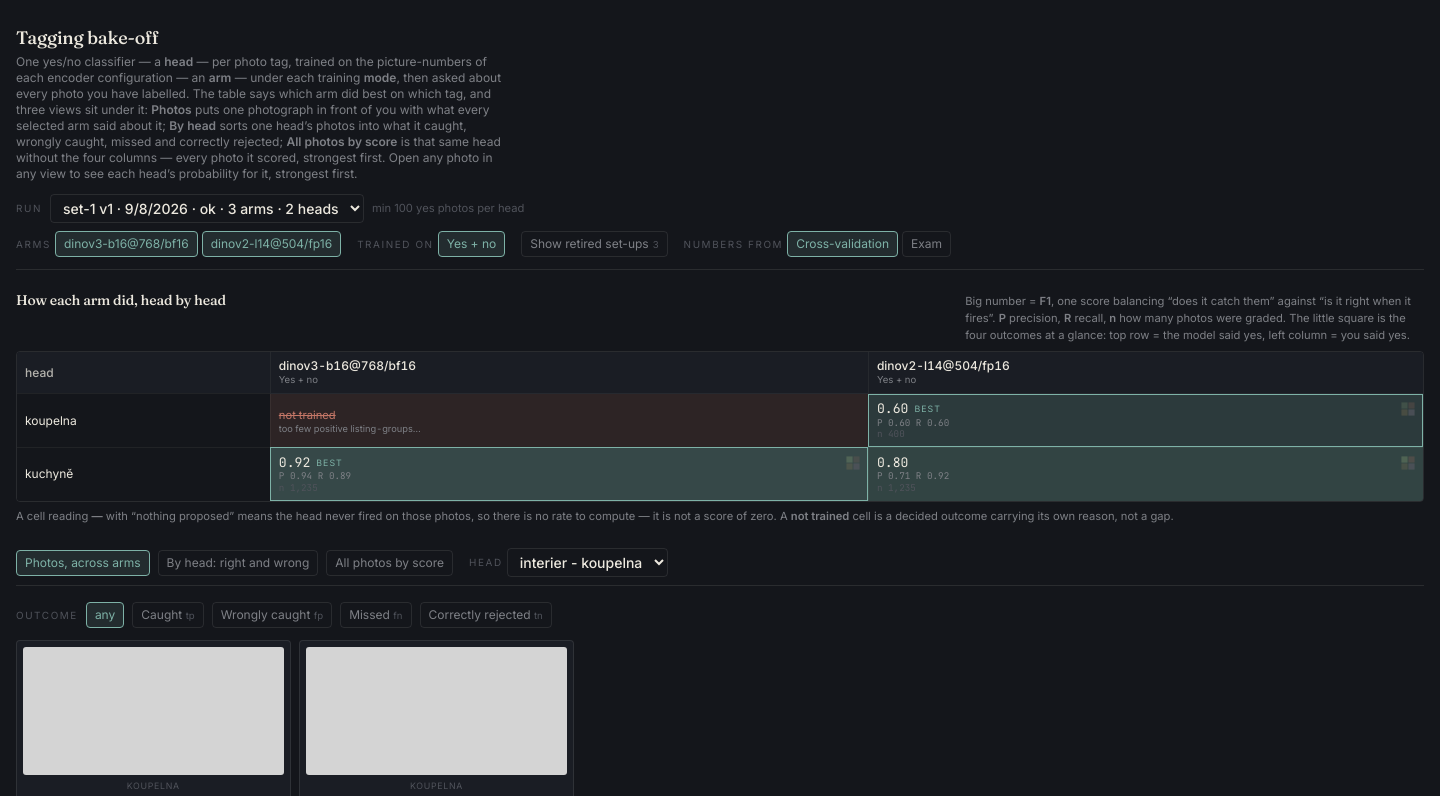
<NewDedupTaggingBakeoff> — the metrics overview › the split switch swaps which half of the row is read
Expected: the cell with test id "cell-19-8-pos_neg" shows "0.80", [877, 454, 908, 471]
Click the button with test id "split-exam" at [926, 244], box [902, 231, 951, 257]
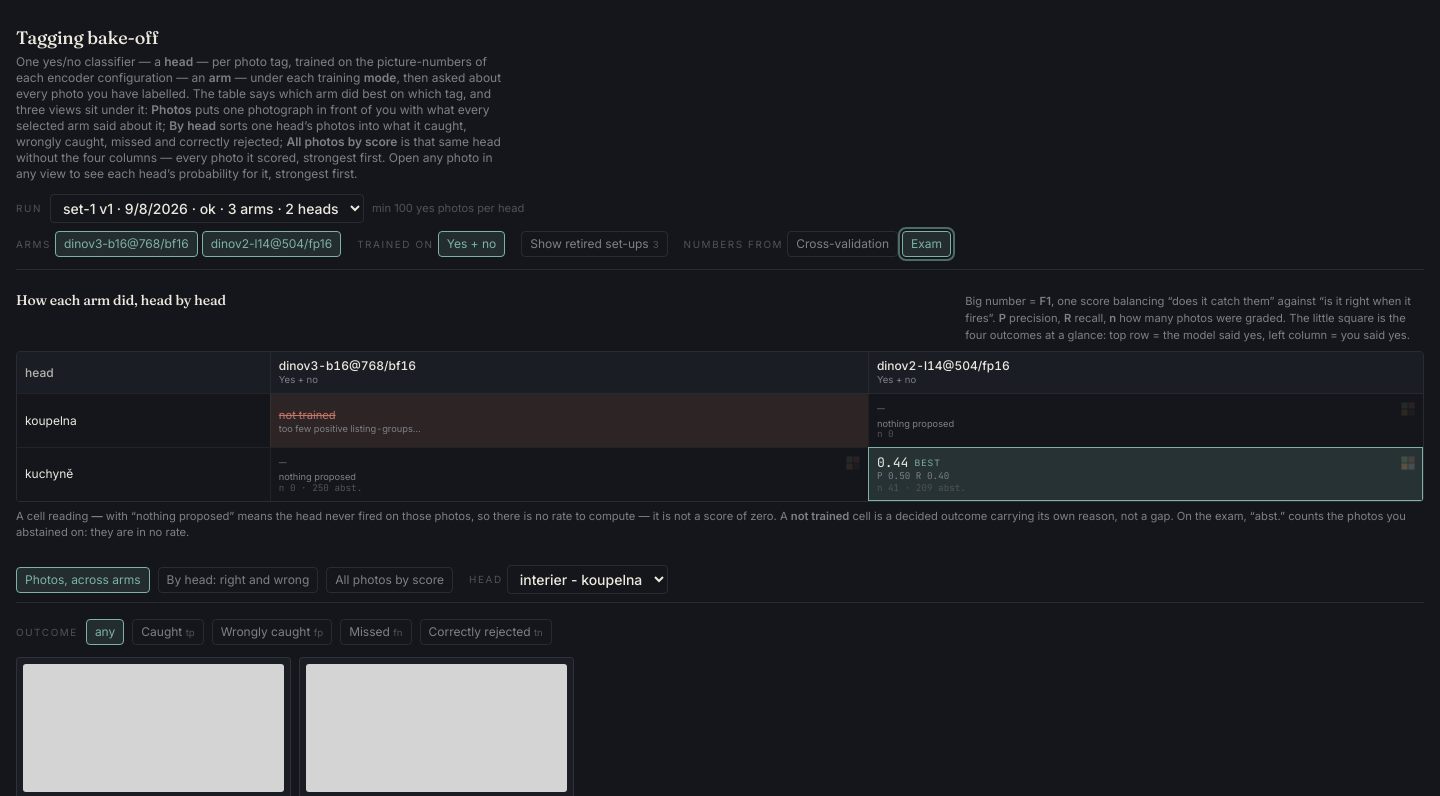
Expected: the cell with test id "cell-19-8-pos_neg" shows "0.44", [877, 454, 908, 471]
Expected: the cell with test id "cell-19-8-pos_neg" shows "n 41", [868, 447, 1423, 500]
